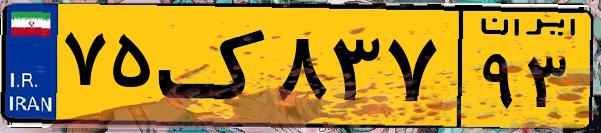3: (330, 28, 385, 110), (525, 38, 570, 115)
5: (110, 28, 158, 98)
7: (385, 28, 445, 110), (57, 26, 110, 100)
8: (270, 28, 330, 110)
9: (475, 38, 525, 113)
ک: (158, 12, 270, 120)
